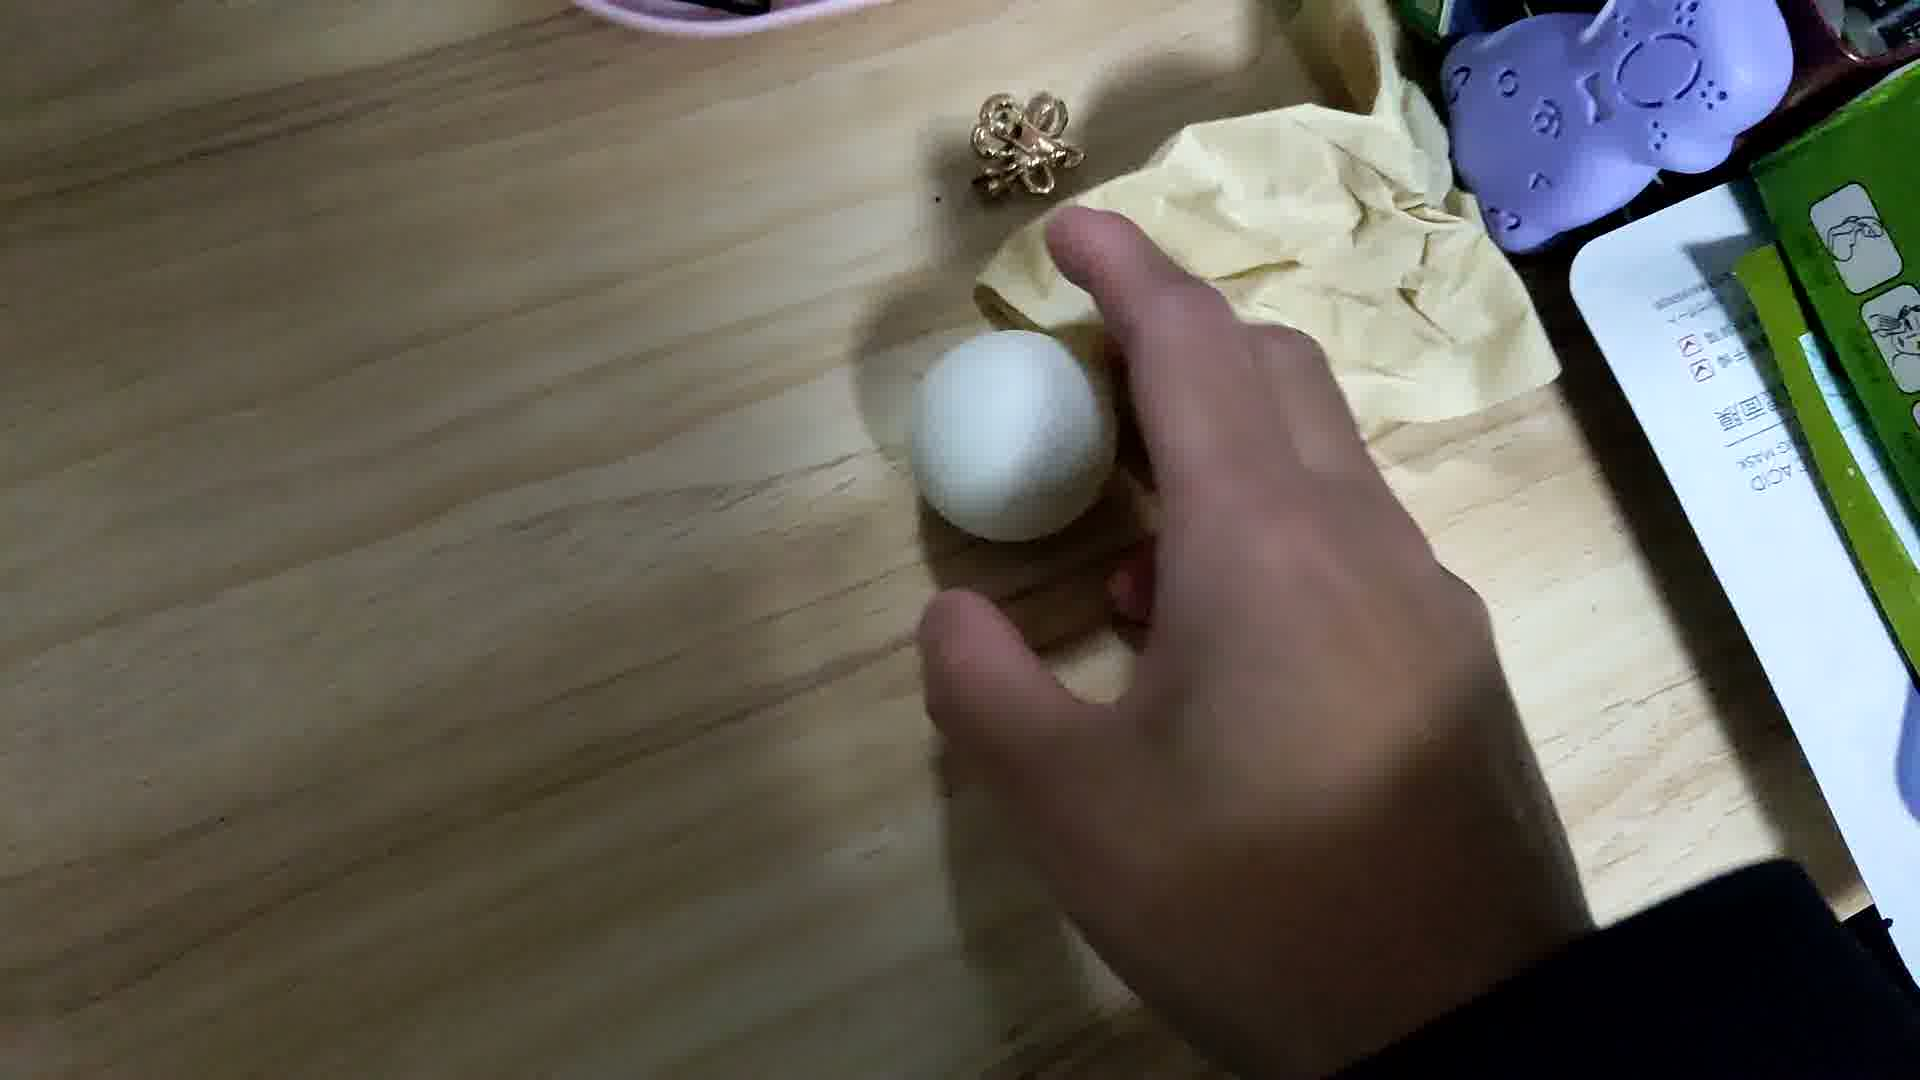Ball: (914, 328, 1122, 537)
